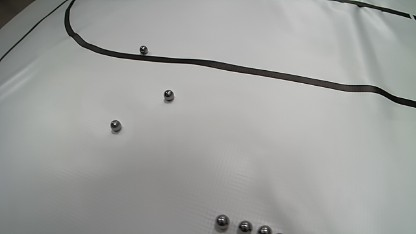ironball: (215, 214, 229, 230), (238, 220, 252, 233), (110, 119, 121, 132), (257, 225, 272, 234), (163, 90, 174, 101), (139, 45, 148, 54)
